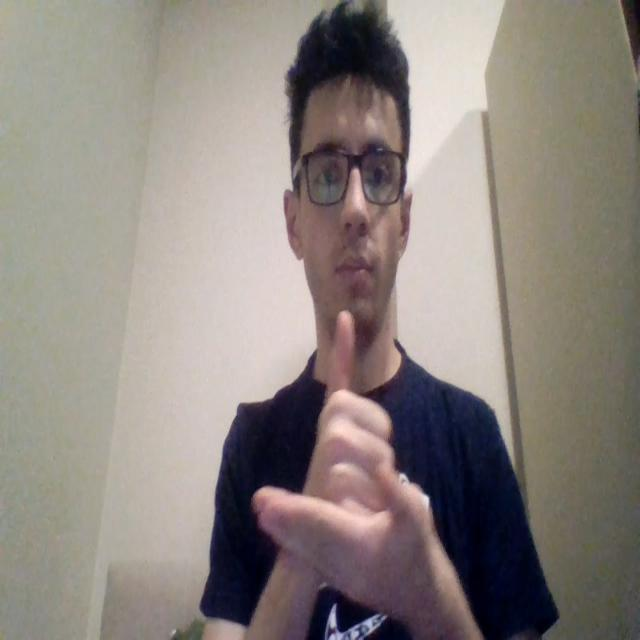help: (254, 311, 433, 609)
